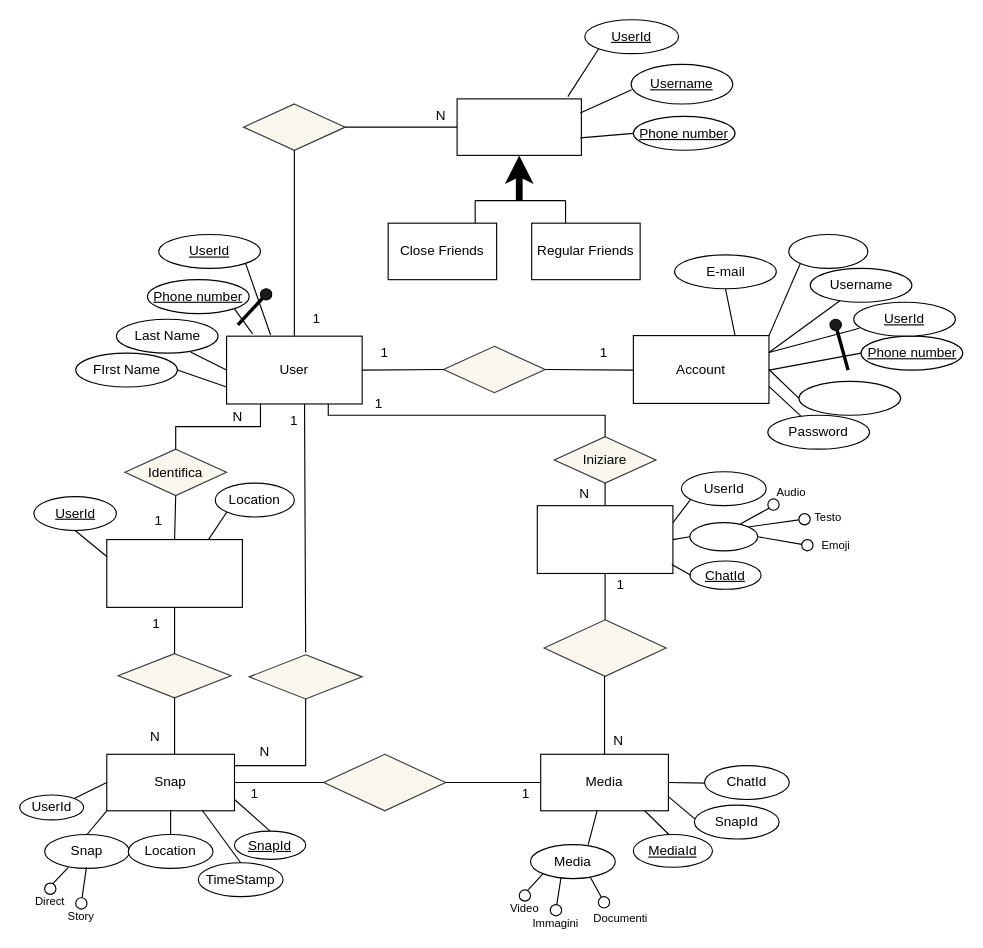
Image size: 983x948. Some labels were removed from this diagram. The centre of each missing label's shape, as x and y in pixels:
"Aggiungi" goes at point (293, 126).
"Chat" goes at point (604, 539).
"Friends" goes at point (518, 126).
"Gender" goes at point (849, 397).
"Importa/ Aggiungi" goes at point (384, 782).
"Inviare/ Ricevere" goes at point (604, 647).
"Map" goes at point (174, 572).
"Mostra" goes at point (174, 675).
"Possiede" goes at point (493, 369).
"Pubblica" goes at point (305, 676).
"Snapcode" goes at point (828, 250).
"Tipo" goes at point (723, 536).
